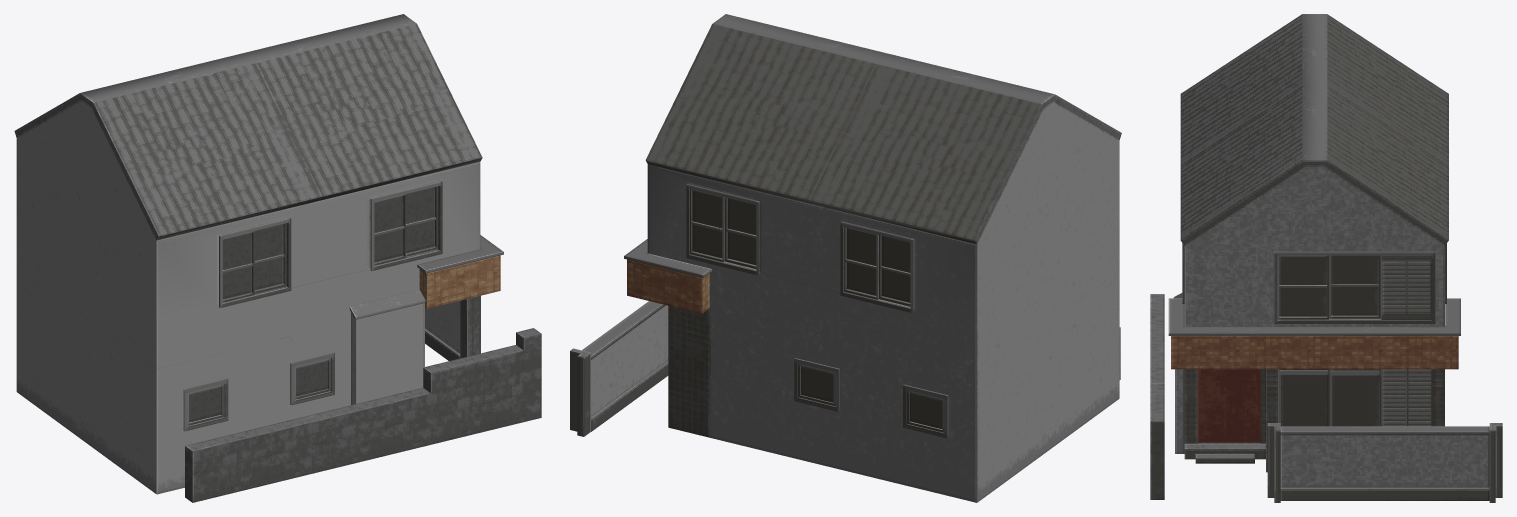
File: house_modern.glb
3 views of the same model, side by side, from view 1: azimuth 30°, elevation 25°; view 2: azimuth 150°, elevation 25°; view 3: azimuth 270°, elevation 25° (orthographic). The views are drawn at different scales.
Parts seen in each view (by area): view 1: mesh; view 2: mesh; view 3: mesh.
Boxes of the visible parts, left/top/right/bottom form: mesh: left=14, top=14, right=541, bottom=502; mesh: left=570, top=14, right=1121, bottom=502; mesh: left=1150, top=14, right=1502, bottom=502.
Size of the model in its own units: 7.91 by 7 by 6.96.
1 material, 1 textured.
